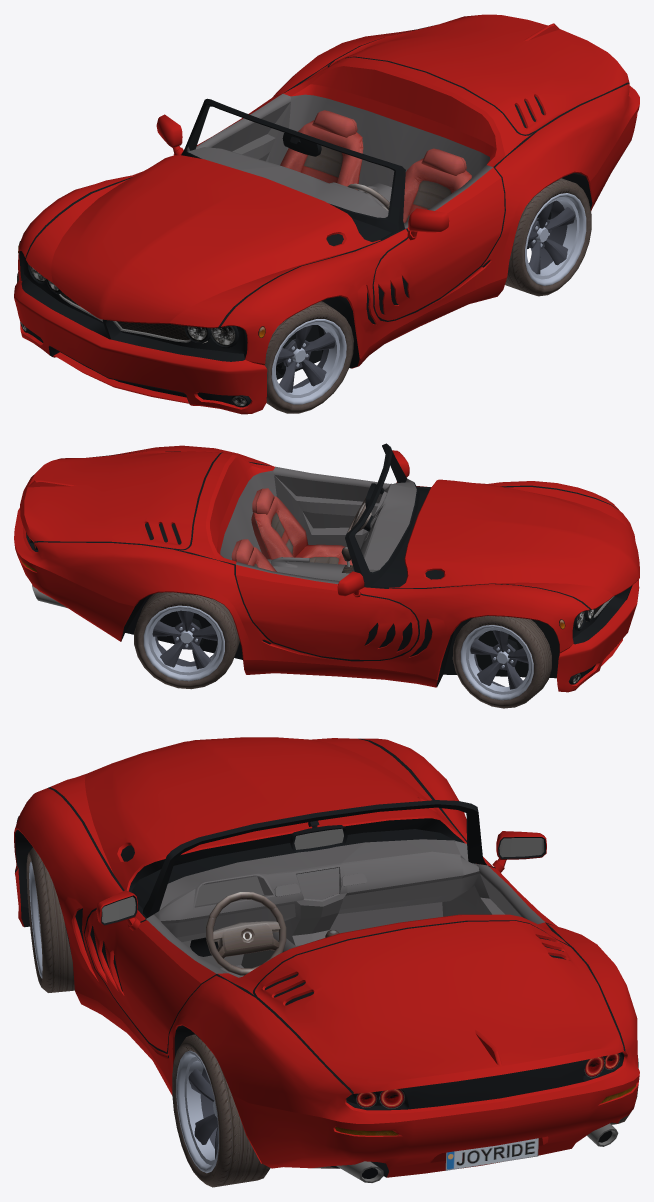
Rendered from auto.glb.
The picture shows the model from 3 angles, top to bottom: view 1: azimuth 30°, elevation 25°; view 2: azimuth 150°, elevation 25°; view 3: azimuth 270°, elevation 25°; orthographic projection. The views are drawn at different scales.
Visible parts, largest first — view 1: node_id108, node_id120, node_id102, node_id32, node_id72, node_id65, node_id76, node_id67, node_id74, node_id69, node_id93, node_id106 (+2 smaller); view 2: node_id108, node_id120, node_id102, node_id32, node_id86, node_id79, node_id90, node_id83, node_id88, node_id81, node_id52; view 3: node_id108, node_id120, node_id102, node_id72, node_id76, node_id34, node_id69, node_id43, node_id74, node_id122, node_id39, node_id54 (+5 smaller).
Part boxes in pixels (x1,y1,x2,y2): node_id108: (14, 14, 639, 414); node_id120: (187, 93, 492, 228); node_id102: (18, 25, 629, 407); node_id32: (280, 110, 471, 222); node_id72: (525, 193, 586, 285); node_id65: (271, 319, 346, 404); node_id76: (505, 178, 589, 296); node_id67: (267, 313, 352, 411); node_id74: (522, 186, 591, 292); node_id69: (264, 301, 353, 413); node_id93: (407, 208, 449, 240); node_id106: (30, 266, 235, 345); node_id108: (14, 445, 639, 692); node_id120: (220, 466, 416, 584); node_id102: (26, 443, 632, 686); node_id32: (231, 488, 352, 571); node_id86: (143, 605, 224, 681); node_id79: (460, 625, 533, 700); node_id90: (134, 592, 239, 689); node_id83: (452, 616, 551, 708); node_id88: (137, 601, 230, 686); node_id81: (455, 620, 538, 705); node_id52: (337, 571, 364, 597); node_id108: (14, 737, 639, 1177); node_id120: (146, 839, 544, 977); node_id102: (15, 738, 625, 1177); node_id72: (176, 1050, 218, 1173); node_id76: (181, 1034, 270, 1187); node_id34: (206, 892, 286, 975); node_id69: (29, 847, 74, 992); node_id43: (445, 1138, 538, 1170); node_id74: (172, 1042, 220, 1181); node_id122: (356, 1053, 619, 1108); node_id39: (336, 1123, 618, 1182); node_id54: (499, 838, 544, 857).
Size of the model in its own units: 0.6999 by 0.1934 by 0.4711.
Materials: 41 (41 with a texture image).
